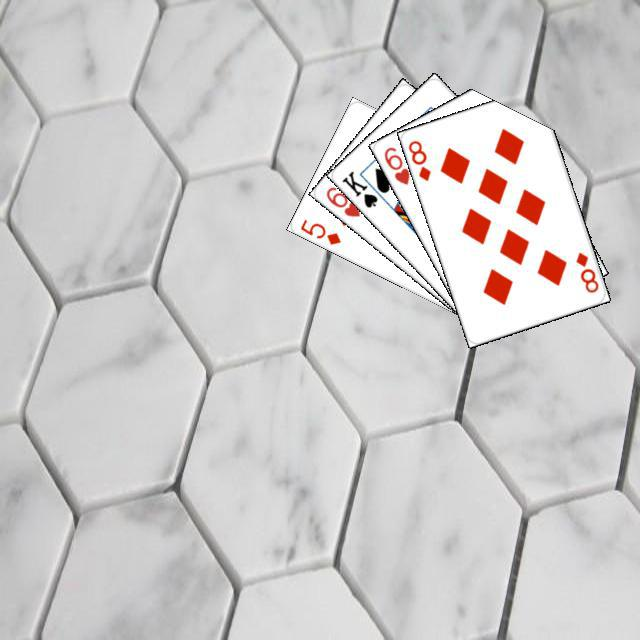5d: (296, 214, 343, 247)
6h: (321, 182, 362, 219), (379, 142, 411, 187)
8d: (403, 135, 433, 183), (571, 247, 600, 295)
Ks: (337, 166, 379, 209)
